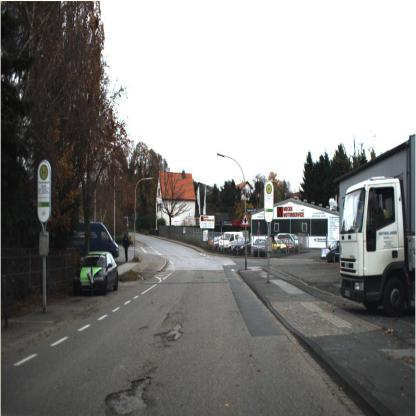danger: (237, 208, 252, 232)
